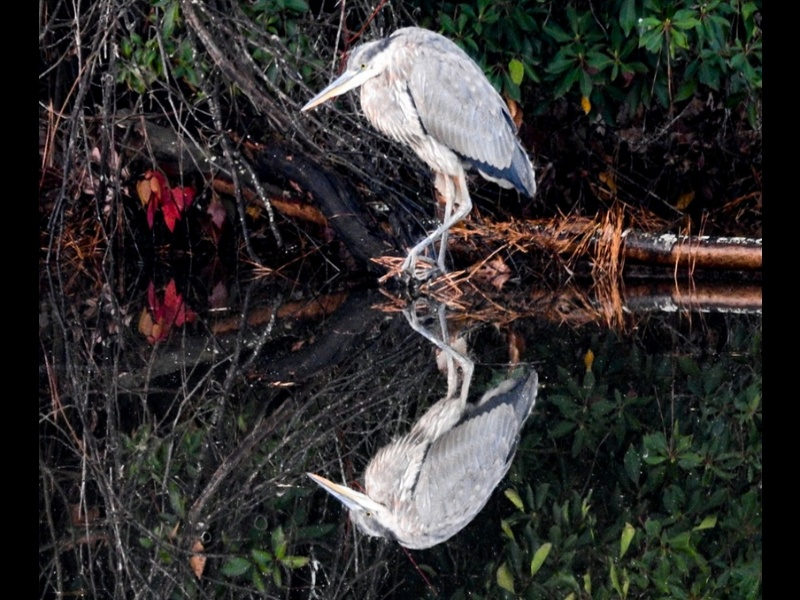heron: (300, 25, 542, 289)
